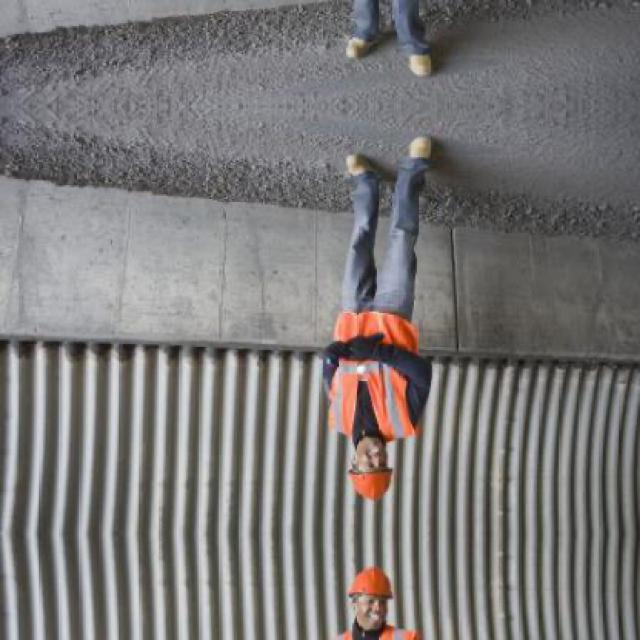con casco: (321, 412, 422, 508)
